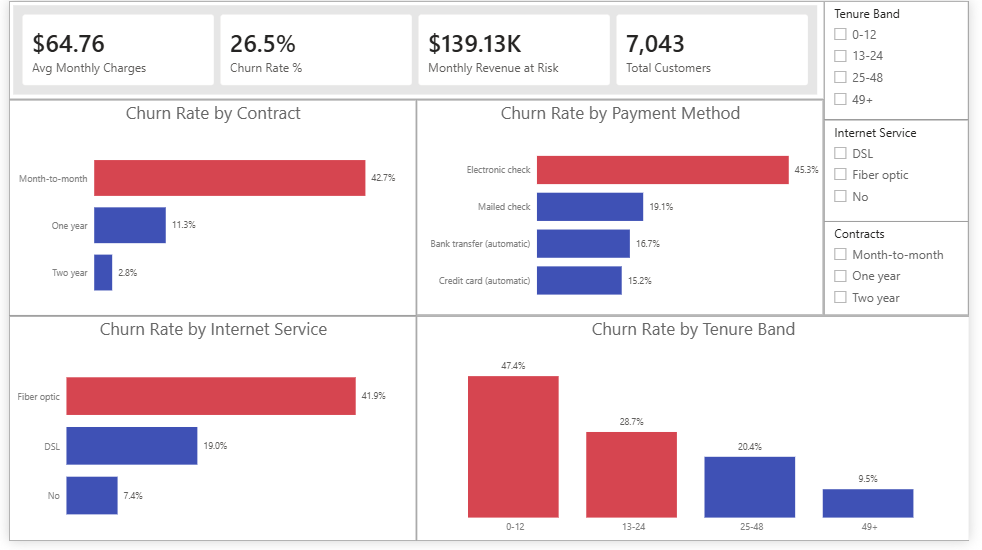

What the dashboard file says about the page in this screenshot:
{"tool":"powerbi","page":{"name":"Churn Dashboard","canvas":[1280,720],"ordinal":0},"visuals":[{"type":"cardVisual","fields":{"Data":["Telco-Customer-Churn.Avg Monthly Charges","Telco-Customer-Churn.Churn Rate %","Telco-Customer-Churn.monthly_revenue_at_risk","Telco-Customer-Churn.Total Customers"]},"box":[0,0,1087.1,131.4],"z":0},{"type":"clusteredBarChart","title":"Churn Rate by Contract","fields":{"Category":["Telco-Customer-Churn.contacts"],"Y":["Telco-Customer-Churn.Churn Rate %"]},"box":[0,131.7,543.3,288.3],"z":1000},{"type":"clusteredBarChart","title":"Churn Rate by Internet Service","fields":{"Category":["Telco-Customer-Churn.internet_service"],"Y":["Telco-Customer-Churn.Churn Rate %"]},"box":[0,420,543.3,300],"z":2000},{"type":"clusteredColumnChart","title":"Churn Rate by Tenure Band","fields":{"Category":["Telco-Customer-Churn.tenure_band"],"Y":["Telco-Customer-Churn.Churn Rate %"]},"box":[542.7,420,737.3,300],"z":3000},{"type":"clusteredBarChart","title":"Churn Rate  by Payment Method","fields":{"Y":["Telco-Customer-Churn.Churn Rate %"],"Category":["Telco-Customer-Churn.payment_method"]},"box":[543.6,131.8,542.7,287.3],"z":4000},{"type":"slicer","fields":{"Values":["Telco-Customer-Churn.contracts"]},"box":[1086.7,293.3,192.9,125.7],"z":5000},{"type":"slicer","fields":{"Values":["Telco-Customer-Churn.internet_service"]},"box":[1087.1,159,192.9,135.7],"z":6000},{"type":"slicer","fields":{"Values":["Telco-Customer-Churn.tenure_band"]},"box":[1087.1,0.5,192.9,158.6],"z":7000},{"type":"textbox","box":[335,0,13.3,65],"z":8000}]}

Visuals, with their boxes in screenshot pixels (x1, y1, x2, y2), scaled from the page's 1280x720 canvas onto the 982x550 screenshot:
cardVisual - Telco-Customer-Churn.Avg Monthly Charges x Telco-Customer-Churn.Churn Rate %: 0/0/834/100
"Churn Rate by Contract" clusteredBarChart: 0/101/417/321
"Churn Rate by Internet Service" clusteredBarChart: 0/321/417/549
"Churn Rate by Tenure Band" clusteredColumnChart: 416/321/981/549
"Churn Rate  by Payment Method" clusteredBarChart: 417/101/833/320
slicer - Telco-Customer-Churn.contracts: 834/224/981/320
slicer - Telco-Customer-Churn.internet_service: 834/121/981/225
slicer - Telco-Customer-Churn.tenure_band: 834/0/981/122
textbox: 257/0/267/50
